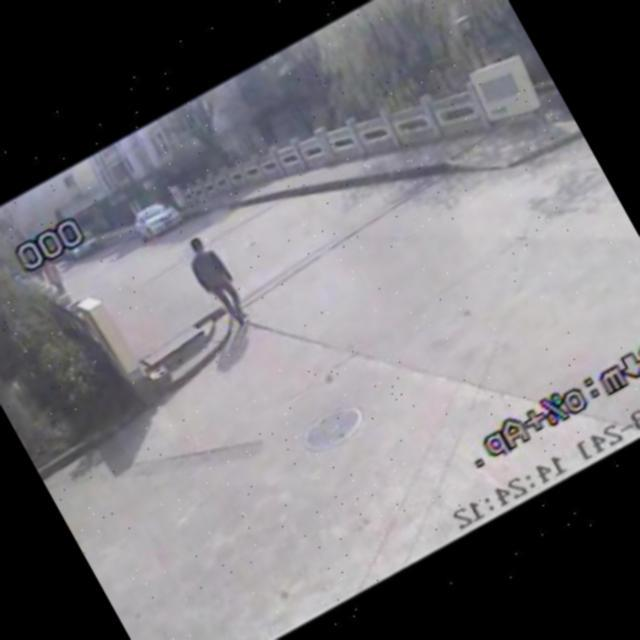person: (175, 230, 257, 336), (38, 253, 76, 300)
